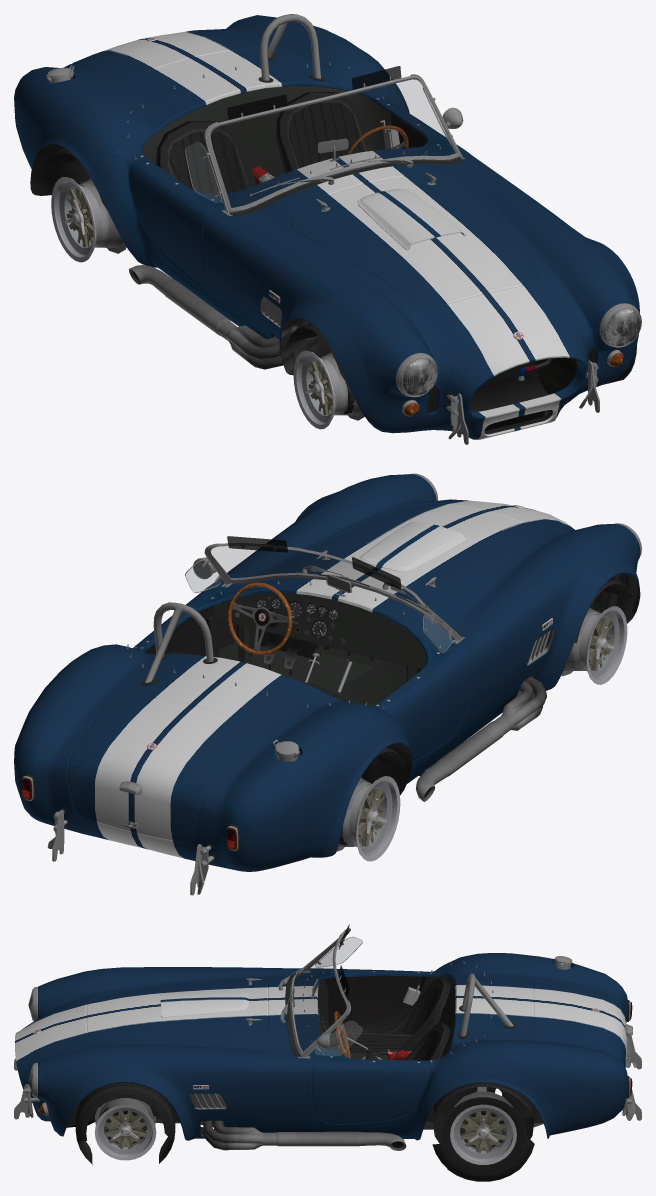
File: cobra.glb
The picture shows the model from 3 angles, top to bottom: view 1: azimuth 30°, elevation 25°; view 2: azimuth 150°, elevation 25°; view 3: azimuth 270°, elevation 25°; orthographic projection. The views are drawn at different scales.
Parts seen in each view (by area): view 1: object 1, object 7, object 5, object 2, object 4, WRR, WFR, object 6, object 8; view 2: object 1, object 5, object 2, object 7, WRR, WFR, object 4, object 8; view 3: object 1, object 5, object 2, WRL, WFL, object 7, object 4, object 8.
Part boxes in pixels (bbox=[...]): object 1: bbox=[14, 15, 639, 439]; object 7: bbox=[185, 66, 454, 206]; object 5: bbox=[142, 85, 426, 194]; object 2: bbox=[46, 14, 641, 444]; object 4: bbox=[30, 144, 595, 434]; WRR: bbox=[51, 177, 126, 262]; WFR: bbox=[293, 350, 364, 429]; object 6: bbox=[402, 308, 640, 395]; object 8: bbox=[43, 148, 348, 385]; object 1: bbox=[14, 474, 640, 871]; object 5: bbox=[144, 582, 426, 706]; object 2: bbox=[21, 473, 641, 895]; object 7: bbox=[186, 536, 451, 652]; WRR: bbox=[336, 776, 400, 861]; WFR: bbox=[561, 606, 627, 684]; object 4: bbox=[361, 573, 639, 794]; object 8: bbox=[345, 579, 631, 815]; object 1: bbox=[15, 953, 627, 1140]; object 5: bbox=[318, 975, 455, 1060]; object 2: bbox=[14, 927, 641, 1150]; WRL: bbox=[432, 1087, 534, 1181]; WFL: bbox=[75, 1088, 175, 1164]; object 7: bbox=[294, 924, 362, 1055]; object 4: bbox=[66, 1087, 543, 1134]; object 8: bbox=[80, 1082, 532, 1114].
Bounding box in the file's own units: 1.78 × 1.22 × 4.
Materials: 10 (10 with a texture image).
